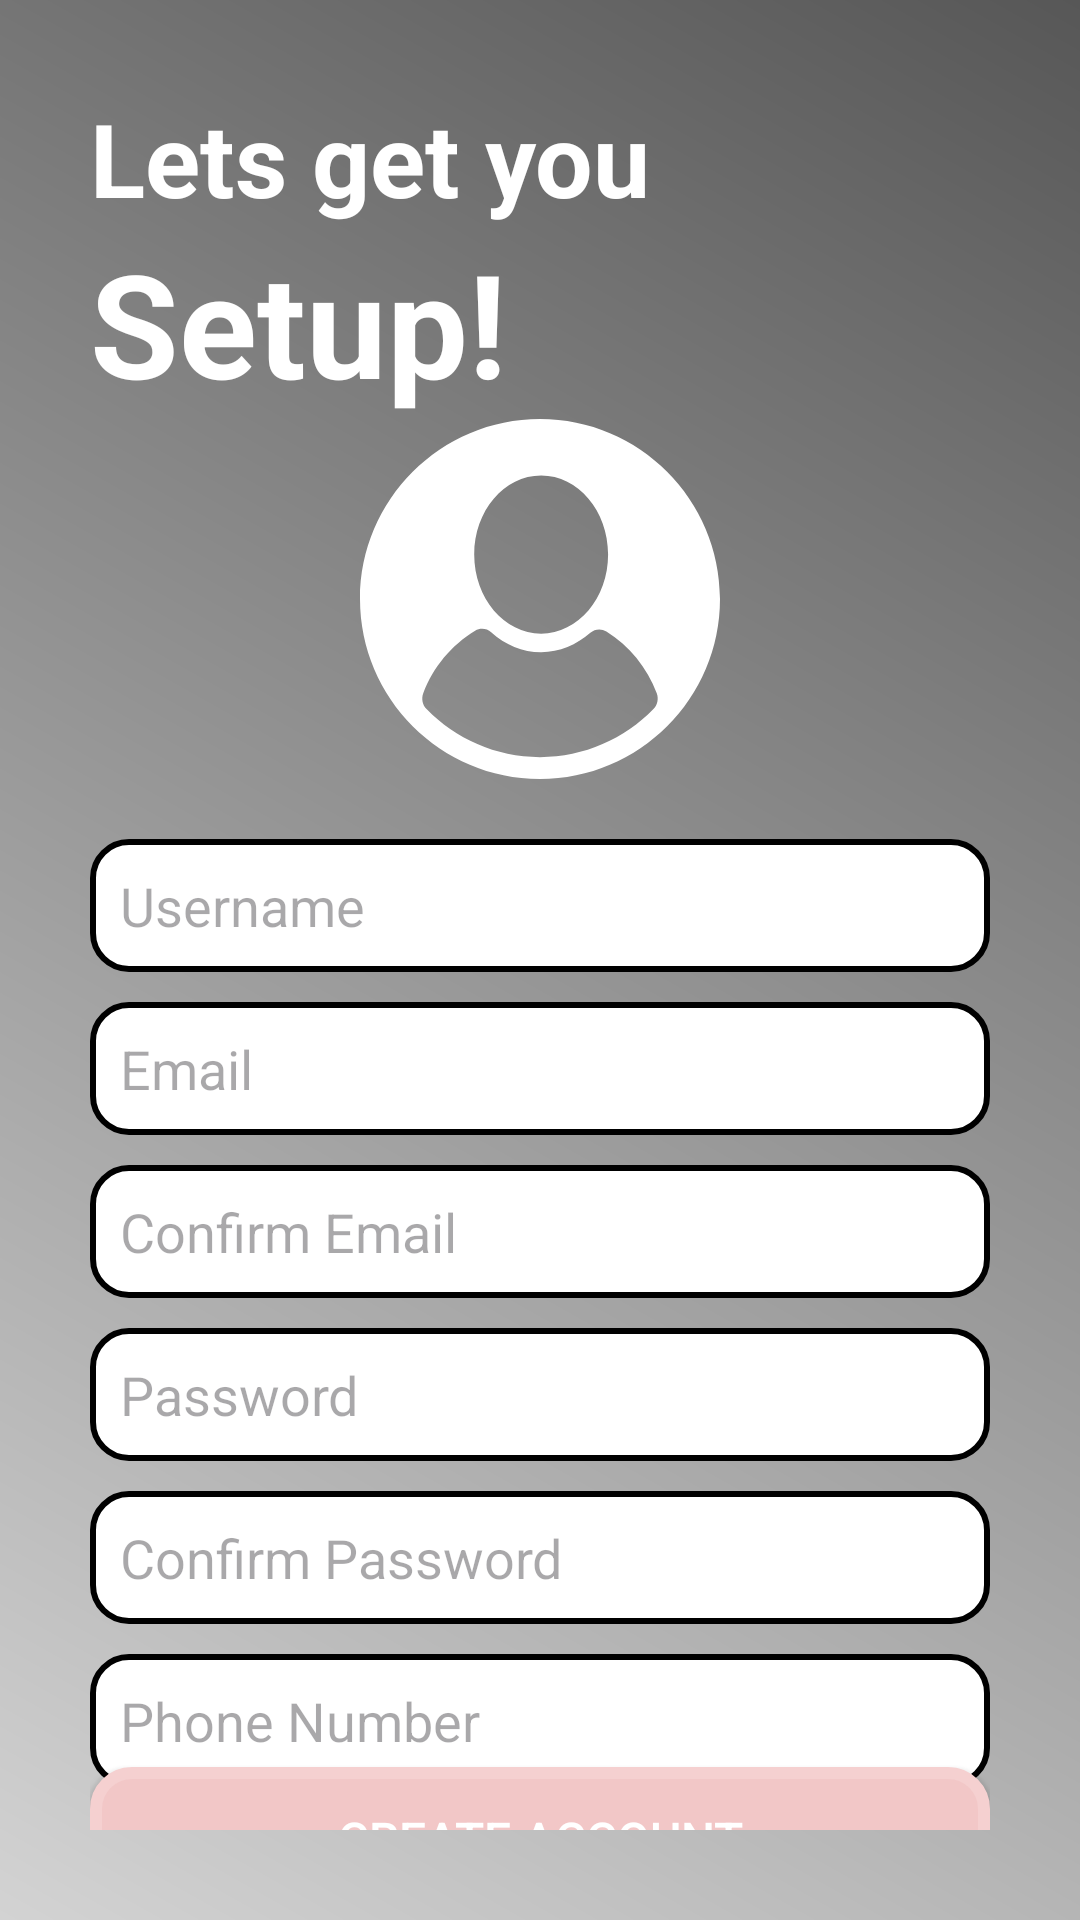

Locate icon controls on the screen. Image size 1080*1920, boxes as BBox(x1, y1, x2, y2).
user circle: BBox(360, 419, 720, 779)
